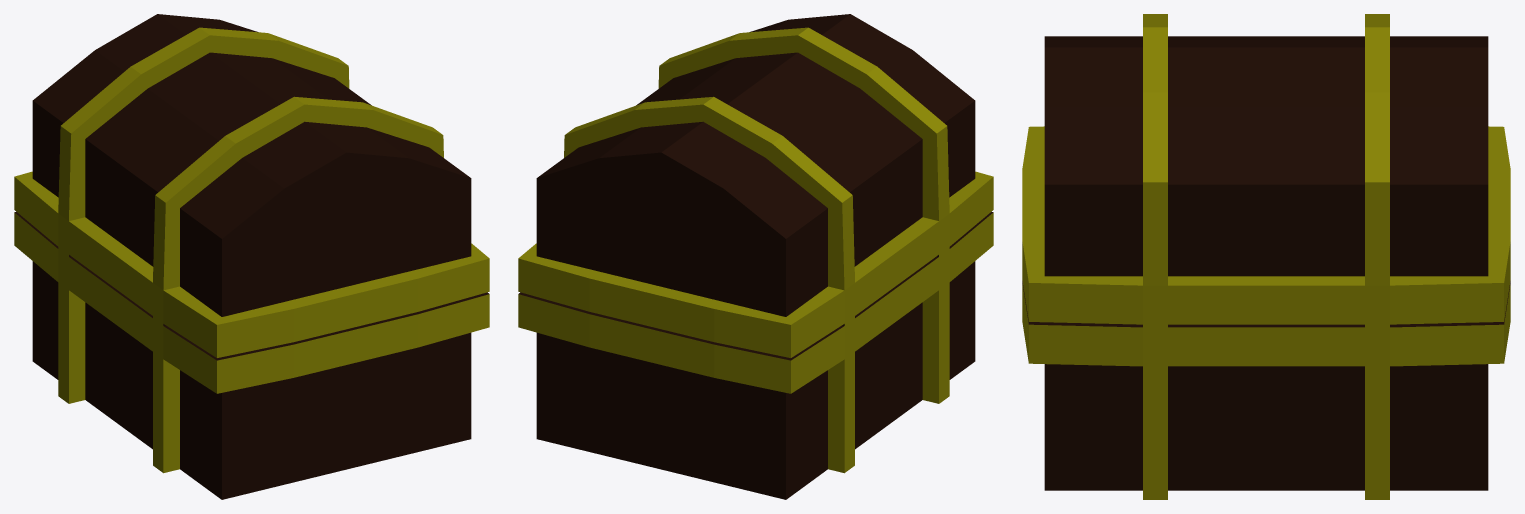
The model's file is chest.fbx.
3 renders of one model, left to right at view 1: azimuth 30°, elevation 25°; view 2: azimuth 150°, elevation 25°; view 3: azimuth 270°, elevation 25°, orthographic. The views are drawn at different scales.
Parts seen in each view (by area): view 1: Cube; view 2: Cube; view 3: Cube.
Part boxes in pixels (<box>): Cube: <box>14,14,489,499</box>; Cube: <box>518,14,993,499</box>; Cube: <box>1022,14,1510,499</box>.
Size of the model in its own units: 54.62 by 61.82 by 69.79.
